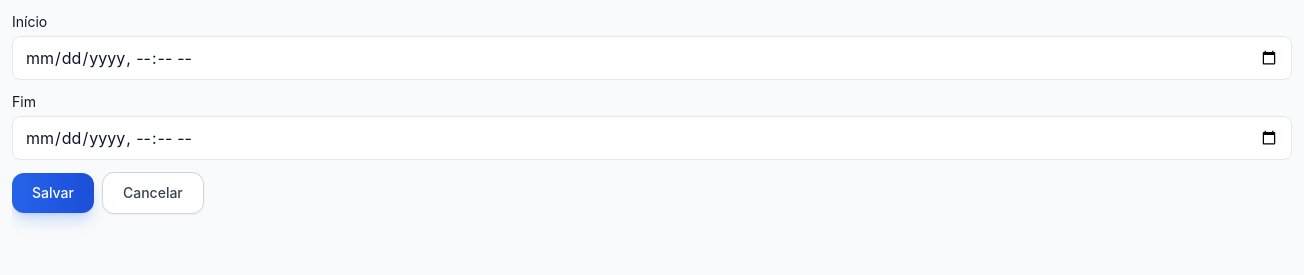
SlotForm - expanded tests › user interaction › clears error messages when user corrects input and submits
Click the button "Salvar" at [53, 193], box [12,173,94,213]
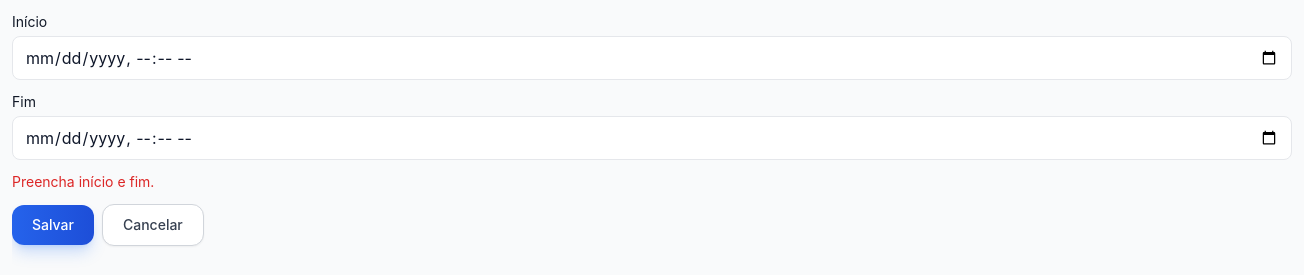
Now the text "Preencha início e fim." is shown, box [12,173,154,190]
Type "2023-09-01T10:00" into the field labelled "Início" at [652, 58], box [12,36,1292,80]
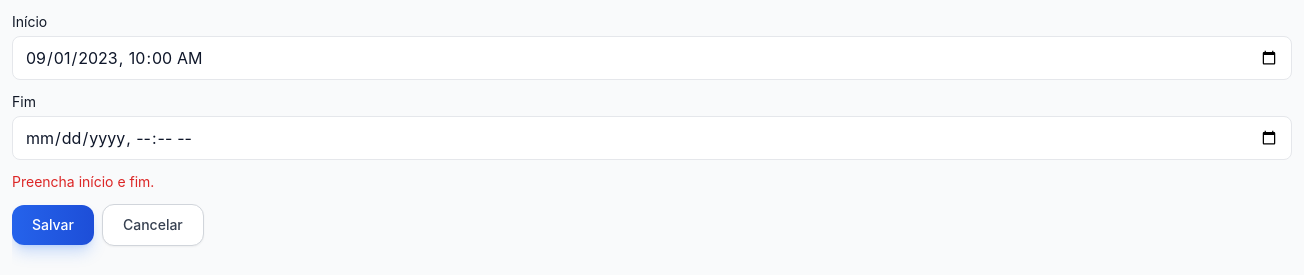
Type "2023-09-01T11:00" into the field labelled "Fim" at [652, 138], box [12,116,1292,160]
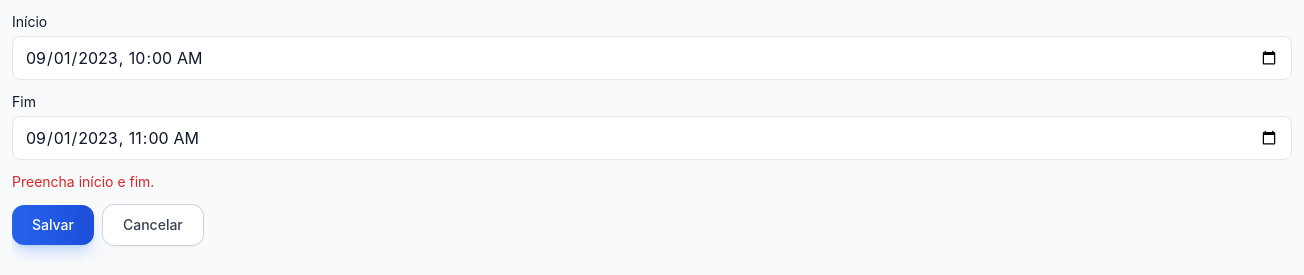
Click the button "Salvar" at [53, 225], box [12,205,94,245]
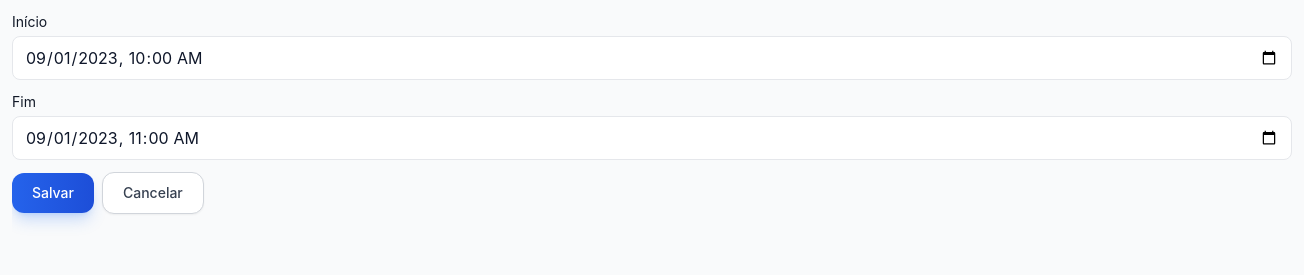
Now the text "Preencha início e fim." is gone
